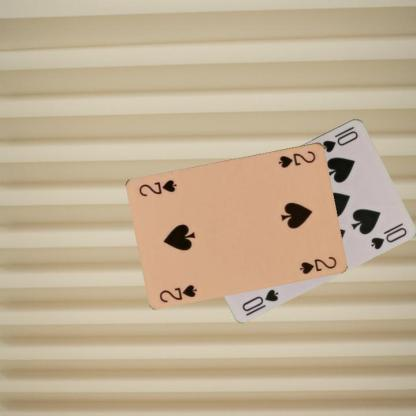10s: (319, 123, 360, 154), (239, 286, 280, 313)
2s: (157, 282, 198, 304), (276, 148, 317, 169)
